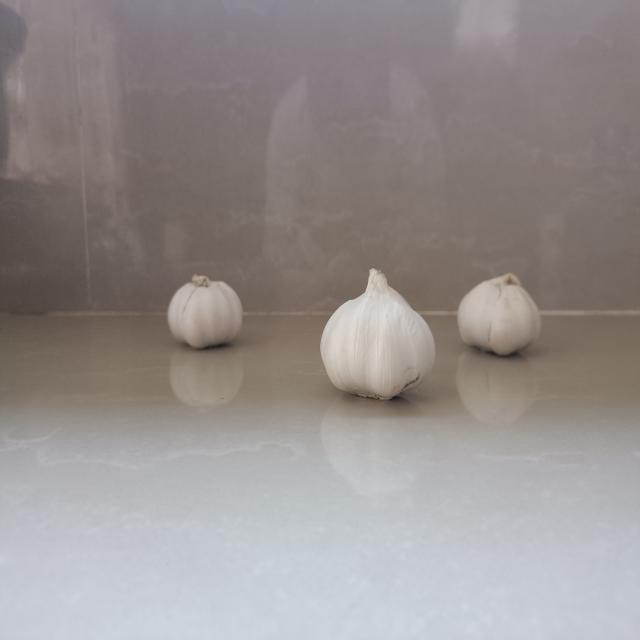garlic: (318, 267, 442, 401), (456, 269, 545, 355), (165, 271, 246, 349)
